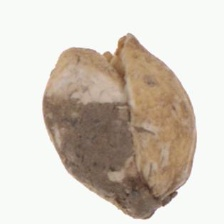L1: (62, 33, 135, 75), (116, 186, 178, 219)
L2: (41, 34, 197, 221)
